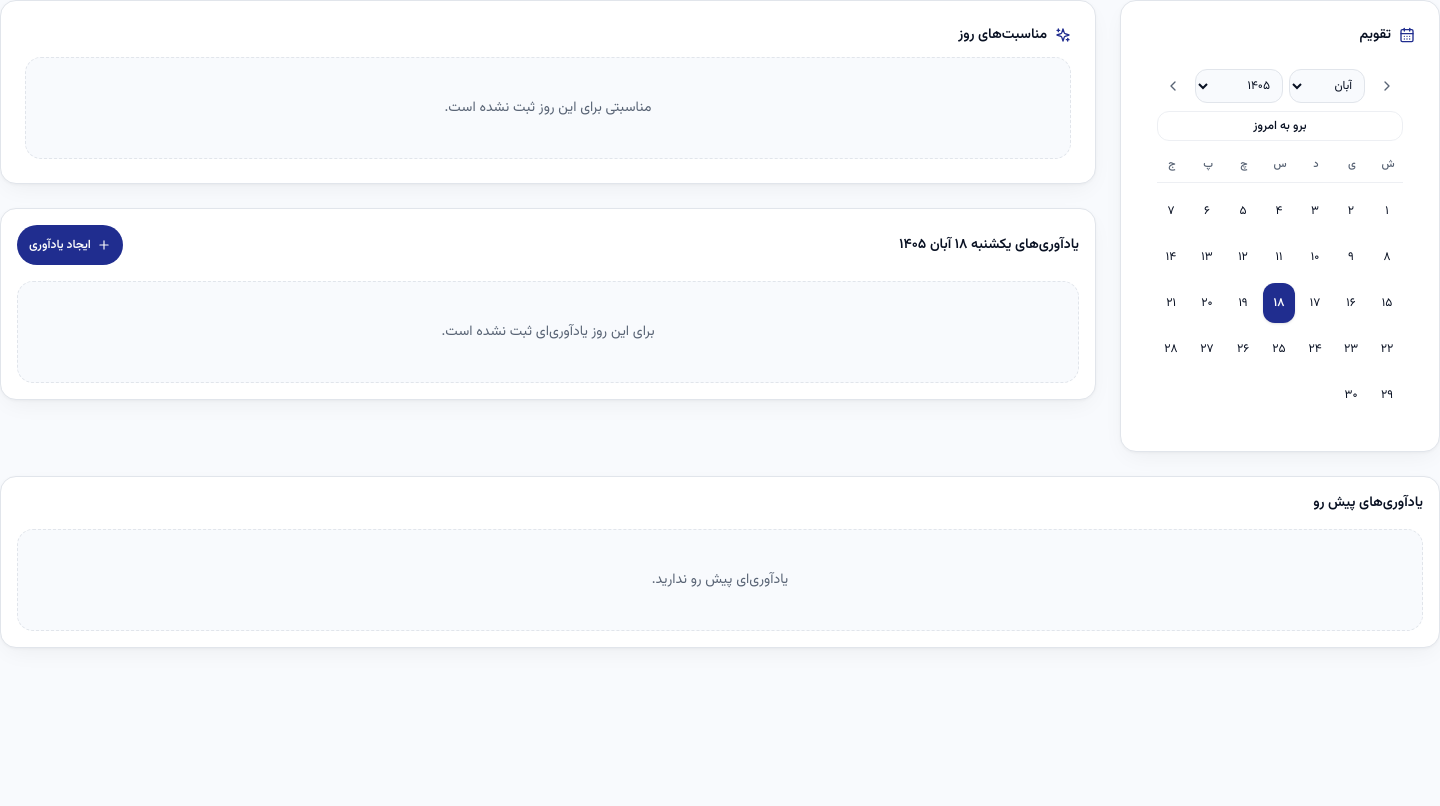
Test: CoreCalendarView › reminder creation › disables the time field once all-day is chosen
Click the button with test id "reminder-create-toggle" at (70, 245), box left=17, top=225, right=123, bottom=265
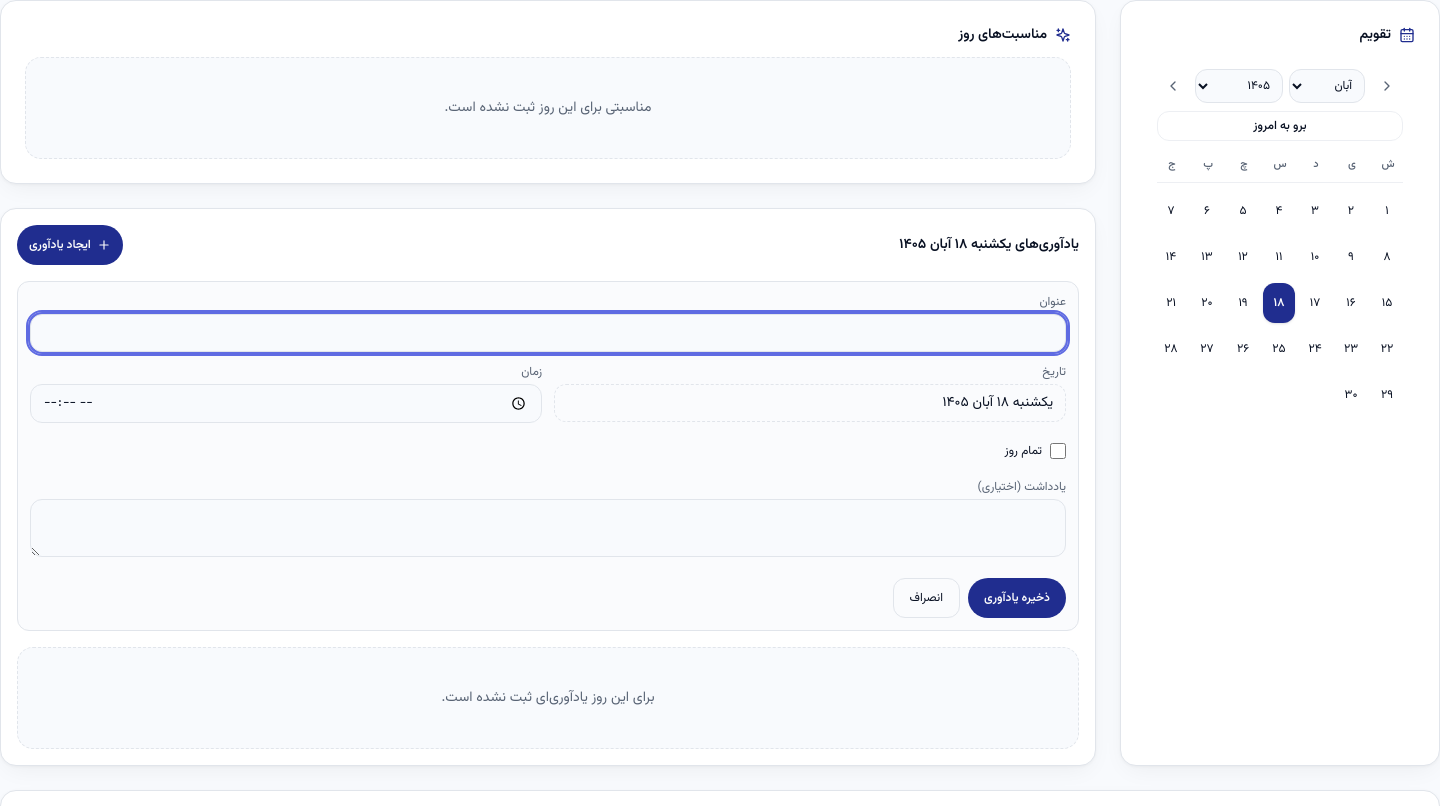
Type "09:00" into the time field with test id "reminder-time-input" at (286, 403), box left=30, top=384, right=542, bottom=423
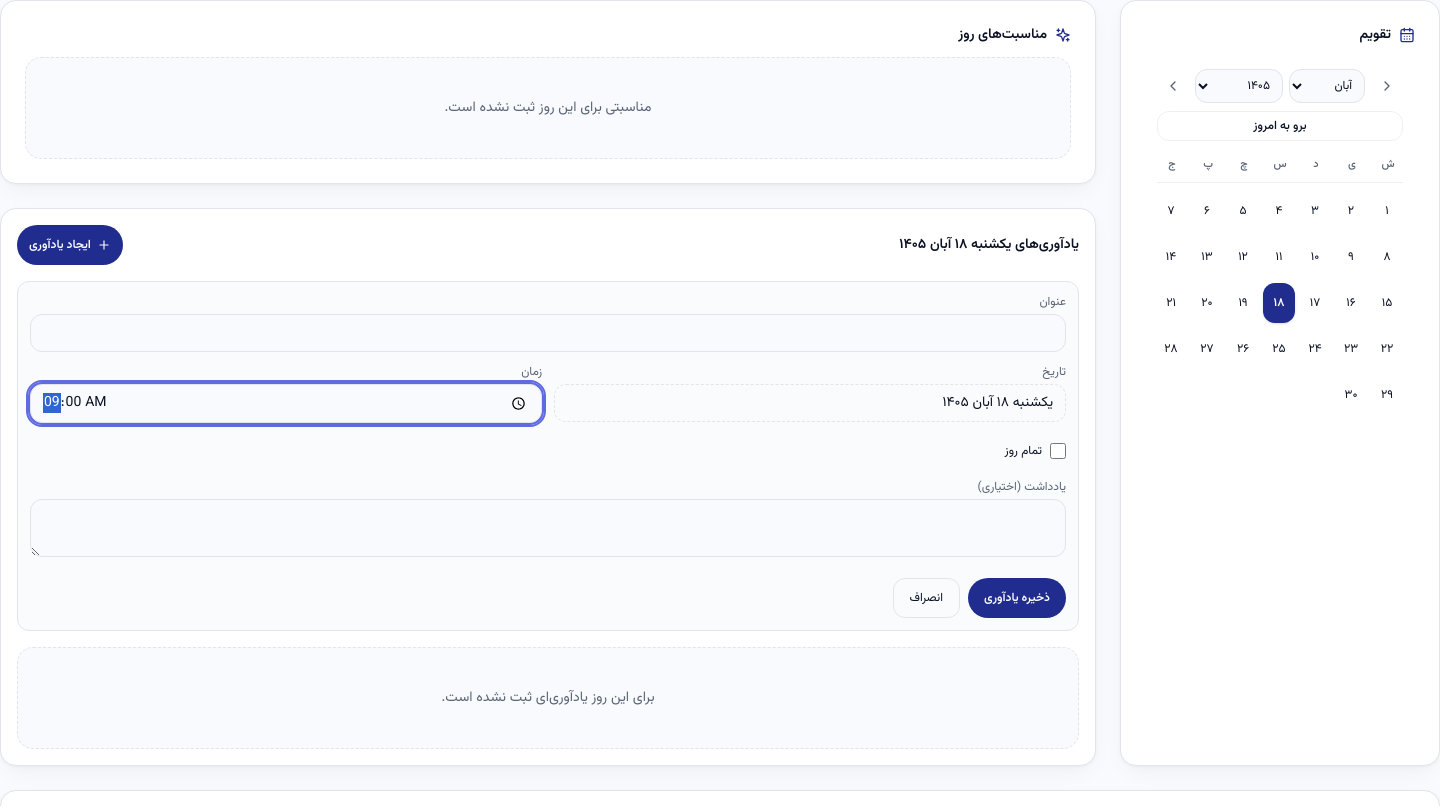
Click the checkbox with test id "reminder-allday-input" at (1058, 451), box left=1050, top=443, right=1066, bottom=459
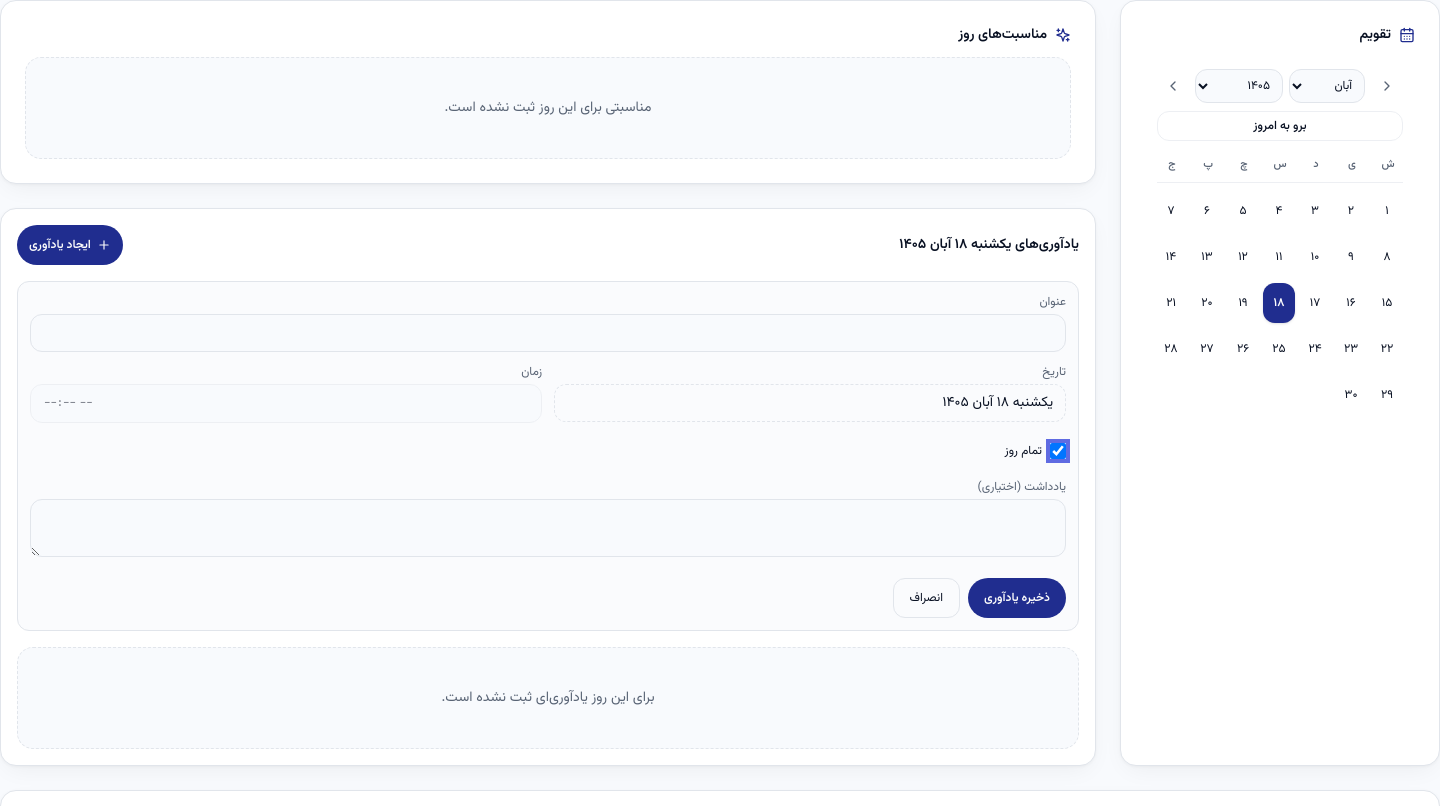
Now the time field with test id "reminder-time-input" is disabled, box left=30, top=384, right=542, bottom=423
Now the time field with test id "reminder-time-input" is empty, box left=30, top=384, right=542, bottom=423
